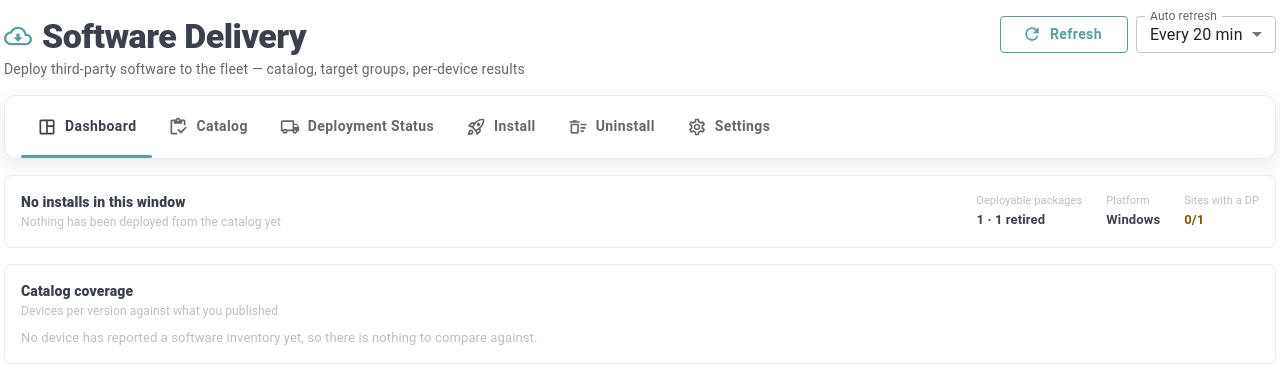
Test: la pestaña Install › ⭐ existe, se pulsa y enseña lo desplegable
The image size is (1280, 381).
Step 1. Click the tab "Install" → point(501, 127), box 450,96 -> 552,158
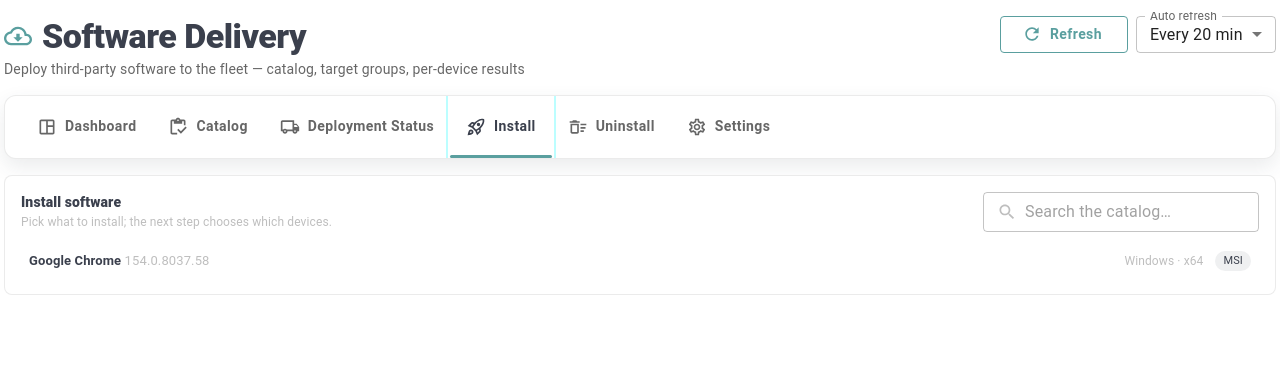
Result: the text "Install software" is shown at 21,194 -> 121,210
Result: the button with aria-label "Install Google Chrome 154.0.8037.58" is shown at 29,251 -> 1251,271
